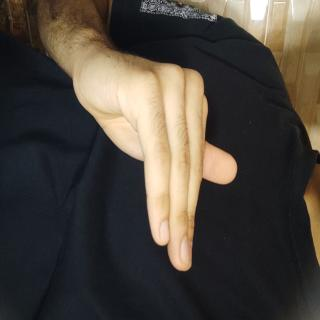KHAA: (25, 101, 205, 320)
